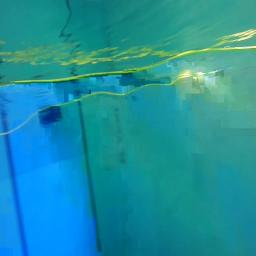Full: (37, 106, 63, 126)
